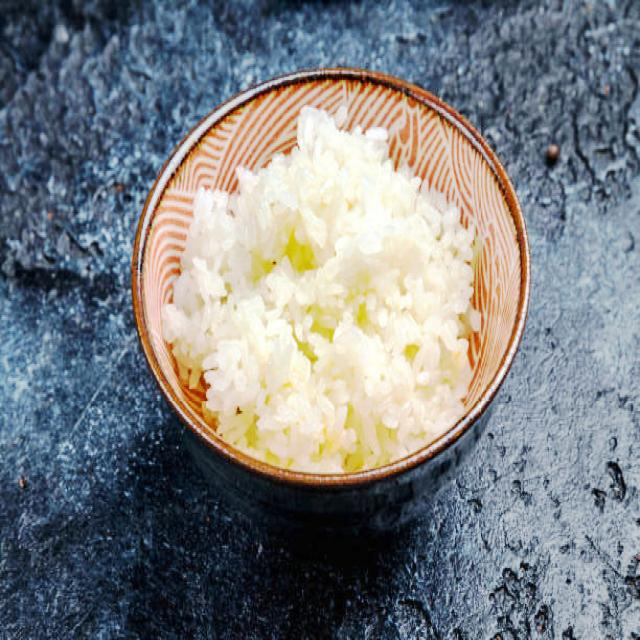rice: (162, 106, 482, 474)
